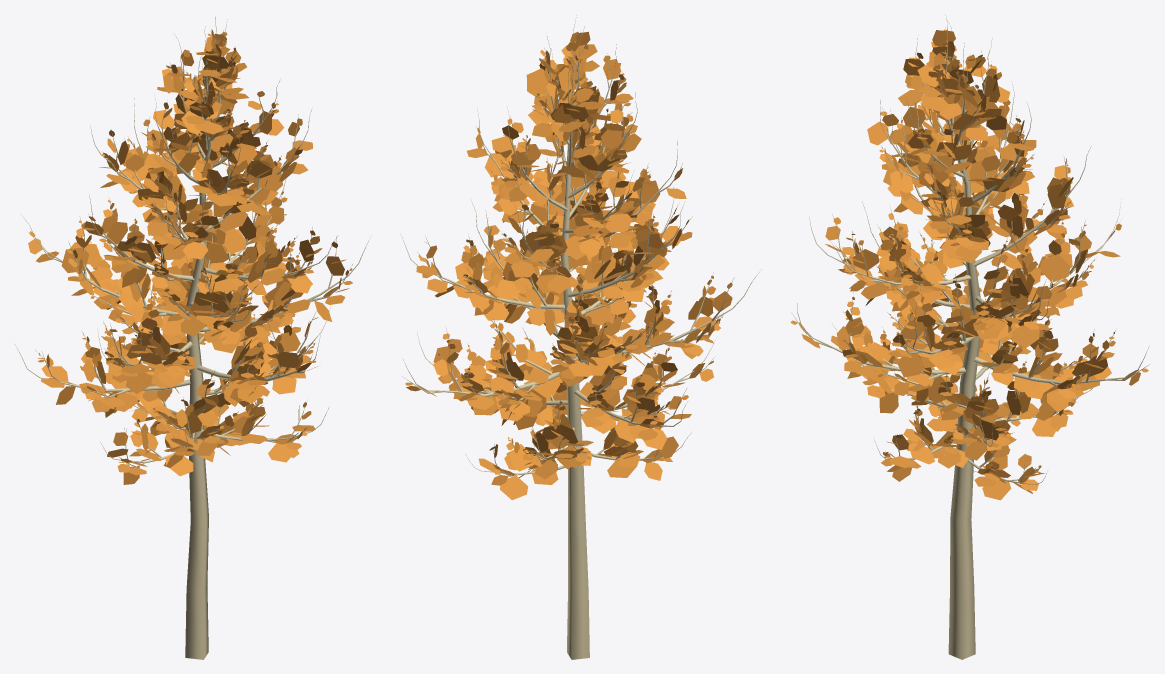
File: Quaking Aspen.fbx
The picture shows the model from 3 angles, left to right: view 1: azimuth 30°, elevation 25°; view 2: azimuth 150°, elevation 25°; view 3: azimuth 270°, elevation 25°; orthographic projection.
Visible parts, largest first — view 1: Quaking Aspen.001; view 2: Quaking Aspen.001; view 3: Quaking Aspen.001.
Boxes of the visible parts, x1,y1,x2,y2 form: Quaking Aspen.001: (15, 17, 368, 659); Quaking Aspen.001: (401, 15, 761, 659); Quaking Aspen.001: (790, 15, 1149, 659).
Bounding box in the file's own units: 662 × 1372 × 695.
